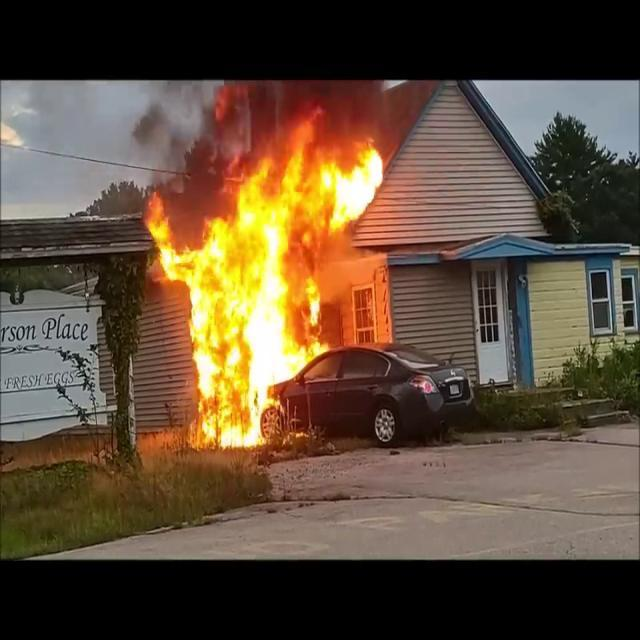Fire: (144, 115, 388, 446)
